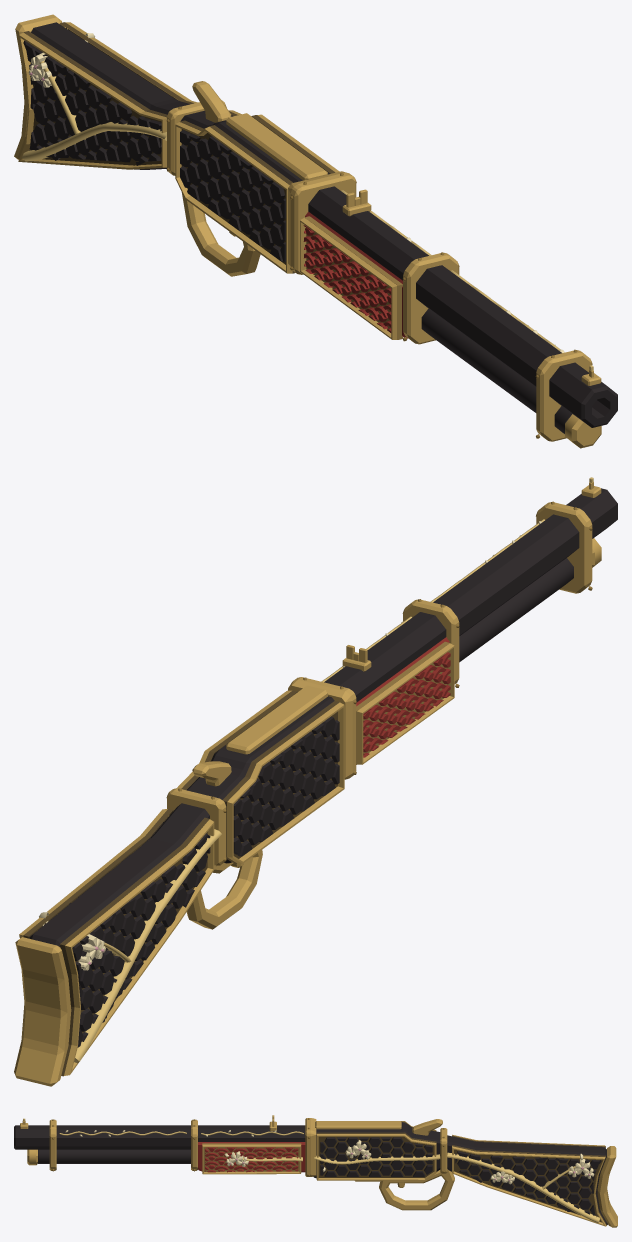
Rendered from w_lever@lever_cloudlock.glb.
The picture shows the model from 3 angles, top to bottom: view 1: azimuth 30°, elevation 25°; view 2: azimuth 150°, elevation 25°; view 3: azimuth 270°, elevation 25°; orthographic projection. The views are drawn at different scales.
Visible parts, largest first — view 1: barrel_wzB__lac__p2a2526, stock_wzA__lac__p2a2526, body_wzA__lac__p2a2526, body_wzN__gold__pc4a056, barrel_wzN__gold__pc4a056, fore_wzA__red__p8a2e27, stock_wzN__gold__pc4a056, fore_wzN__gold__pc4a056, stock_wzB__gnd__p5e4c2c, lever_wzN__gold__pc4a056, stock_wzN__bgold__pd9bb72, body_wzB__gnd__p5e4c2c (+5 smaller); view 2: barrel_wzB__lac__p2a2526, stock_wzA__lac__p2a2526, body_wzA__lac__p2a2526, stock_wzB__gold__pc4a056, stock_wzN__gold__pc4a056, body_wzN__gold__pc4a056, fore_wzA__red__p8a2e27, fore_wzN__gold__pc4a056, barrel_wzN__gold__pc4a056, stock_wzB__gnd__p5e4c2c, stock_wzN__bgold__pd9bb72, body_wzB__lac__p2a2526 (+3 smaller); view 3: barrel_wzB__lac__p2a2526, stock_wzA__lac__p2a2526, body_wzA__lac__p2a2526, fore_wzA__red__p8a2e27, stock_wzB__gnd__p5e4c2c, stock_wzN__gold__pc4a056, body_wzN__gold__pc4a056, body_wzB__gnd__p5e4c2c, fore_wzN__gold__pc4a056, lever_wzN__gold__pc4a056, fore_wzB__wgnd__p9a7c42, stock_wzN__bgold__pd9bb72 (+10 smaller).
Part boxes in pixels (box(x1,y1,x2,y2)): barrel_wzB__lac__p2a2526: box(308, 186, 617, 433); stock_wzA__lac__p2a2526: box(23, 22, 189, 169); body_wzA__lac__p2a2526: box(180, 130, 285, 261); body_wzN__gold__pc4a056: box(175, 110, 339, 273); barrel_wzN__gold__pc4a056: box(403, 253, 601, 448); fore_wzA__red__p8a2e27: box(303, 212, 407, 338); stock_wzN__gold__pc4a056: box(18, 22, 226, 175); fore_wzN__gold__pc4a056: box(288, 171, 397, 339); stock_wzB__gnd__p5e4c2c: box(23, 22, 193, 169); lever_wzN__gold__pc4a056: box(181, 192, 260, 276); stock_wzN__bgold__pd9bb72: box(22, 60, 166, 161); body_wzB__gnd__p5e4c2c: box(180, 111, 335, 273); barrel_wzB__lac__p2a2526: box(324, 488, 617, 702); stock_wzA__lac__p2a2526: box(29, 803, 210, 1047); body_wzA__lac__p2a2526: box(187, 716, 339, 856); stock_wzB__gold__pc4a056: box(14, 937, 71, 1086); stock_wzN__gold__pc4a056: box(19, 788, 226, 1075); body_wzN__gold__pc4a056: box(177, 685, 344, 867); fore_wzA__red__p8a2e27: box(356, 637, 450, 757); fore_wzN__gold__pc4a056: box(288, 643, 454, 779); barrel_wzN__gold__pc4a056: box(403, 502, 601, 683); stock_wzB__gnd__p5e4c2c: box(23, 809, 209, 1076); stock_wzN__bgold__pd9bb72: box(74, 829, 221, 1063); body_wzB__lac__p2a2526: box(187, 696, 334, 863); barrel_wzB__lac__p2a2526: box(14, 1125, 305, 1163); stock_wzA__lac__p2a2526: box(447, 1135, 607, 1224); body_wzA__lac__p2a2526: box(320, 1137, 432, 1176); fore_wzA__red__p8a2e27: box(198, 1142, 305, 1172); stock_wzB__gnd__p5e4c2c: box(452, 1135, 606, 1225); stock_wzN__gold__pc4a056: box(440, 1128, 606, 1226); body_wzN__gold__pc4a056: box(315, 1121, 436, 1187); body_wzB__gnd__p5e4c2c: box(316, 1121, 436, 1177); fore_wzN__gold__pc4a056: box(202, 1118, 316, 1176); lever_wzN__gold__pc4a056: box(355, 1169, 454, 1210); fore_wzB__wgnd__p9a7c42: box(202, 1143, 301, 1171); stock_wzN__bgold__pd9bb72: box(447, 1152, 599, 1223).
Size of the model in its own units: 0.0863 by 0.229 by 1.19.
